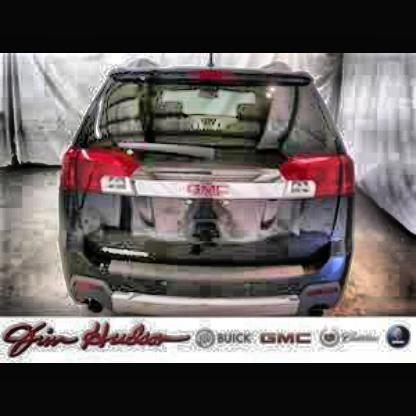GMC Terrain SUV 2012: (58, 59, 360, 316)
